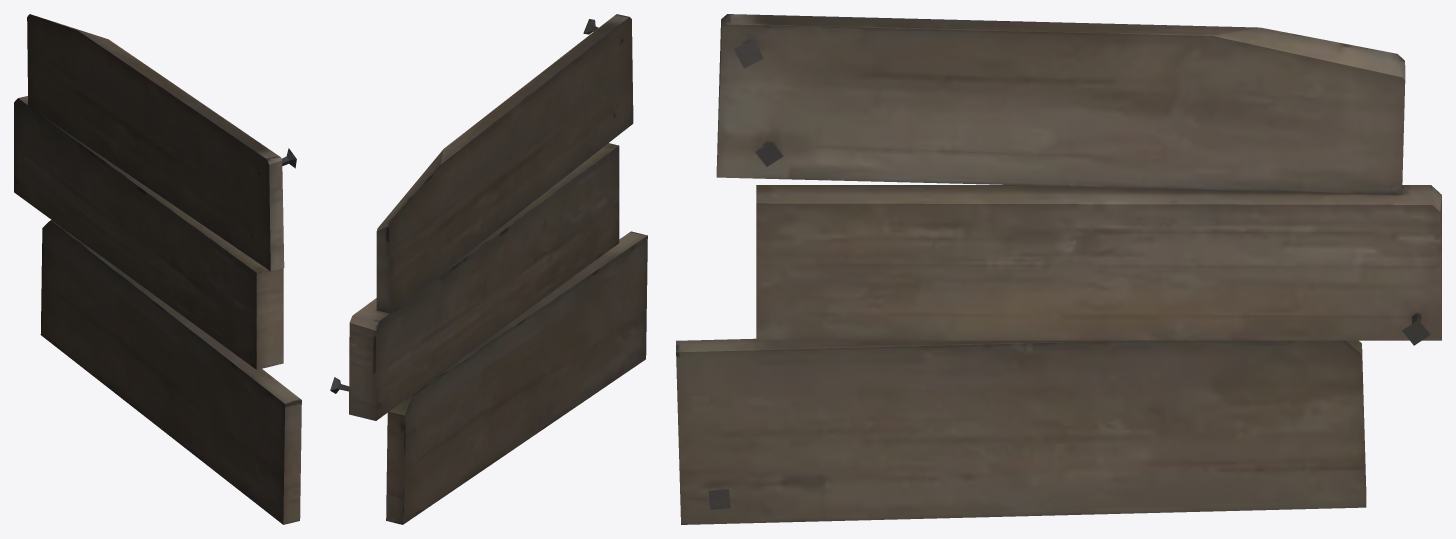
3 views of the same model, side by side, from view 1: azimuth 30°, elevation 25°; view 2: azimuth 150°, elevation 25°; view 3: azimuth 270°, elevation 25° (orthographic). The views are drawn at different scales.
Parts seen in each view (by area): view 1: body0_model0_lod0_mesh0; view 2: body0_model0_lod0_mesh0; view 3: body0_model0_lod0_mesh0.
Part boxes in pixels (left/top/right/bottom): body0_model0_lod0_mesh0: left=14, top=14, right=301, bottom=524; body0_model0_lod0_mesh0: left=330, top=14, right=647, bottom=524; body0_model0_lod0_mesh0: left=676, top=14, right=1441, bottom=524.
Size of the model in its own units: 9.79 by 65.42 by 90.92.
1 material, 1 textured.
